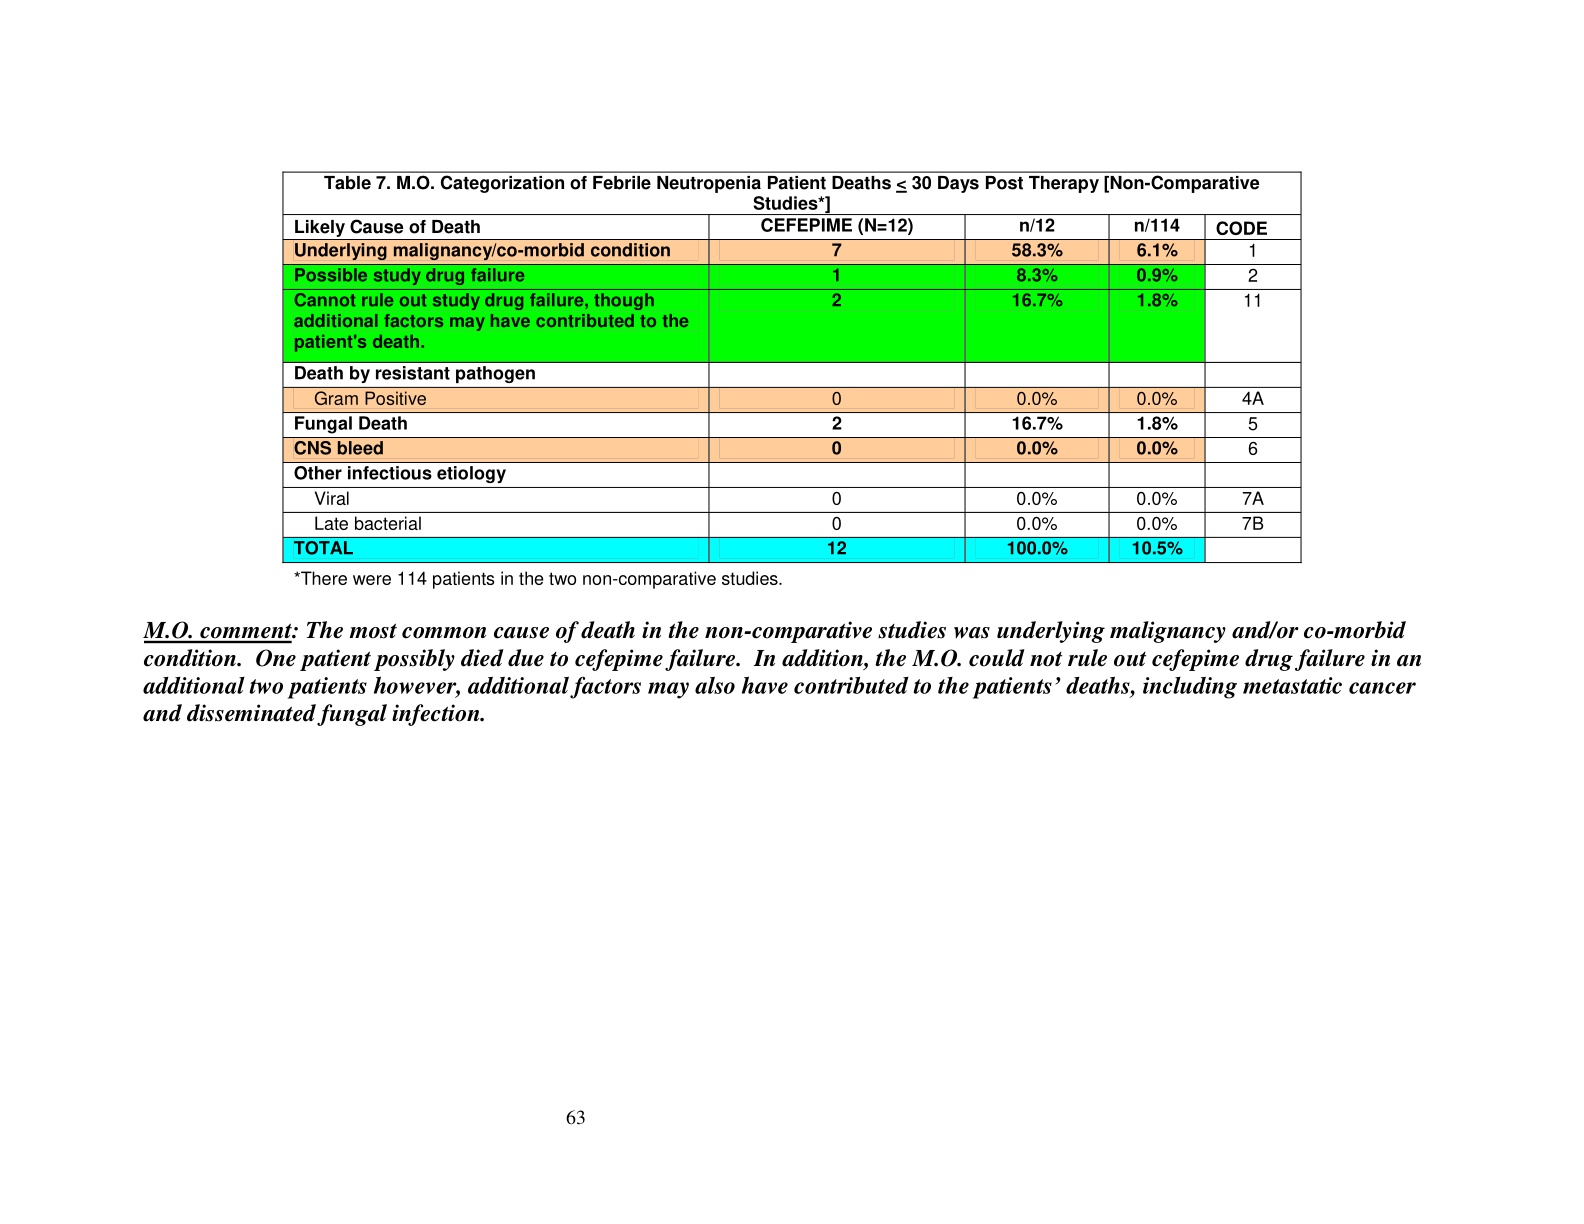merged_cells: (282, 171, 1302, 564)
